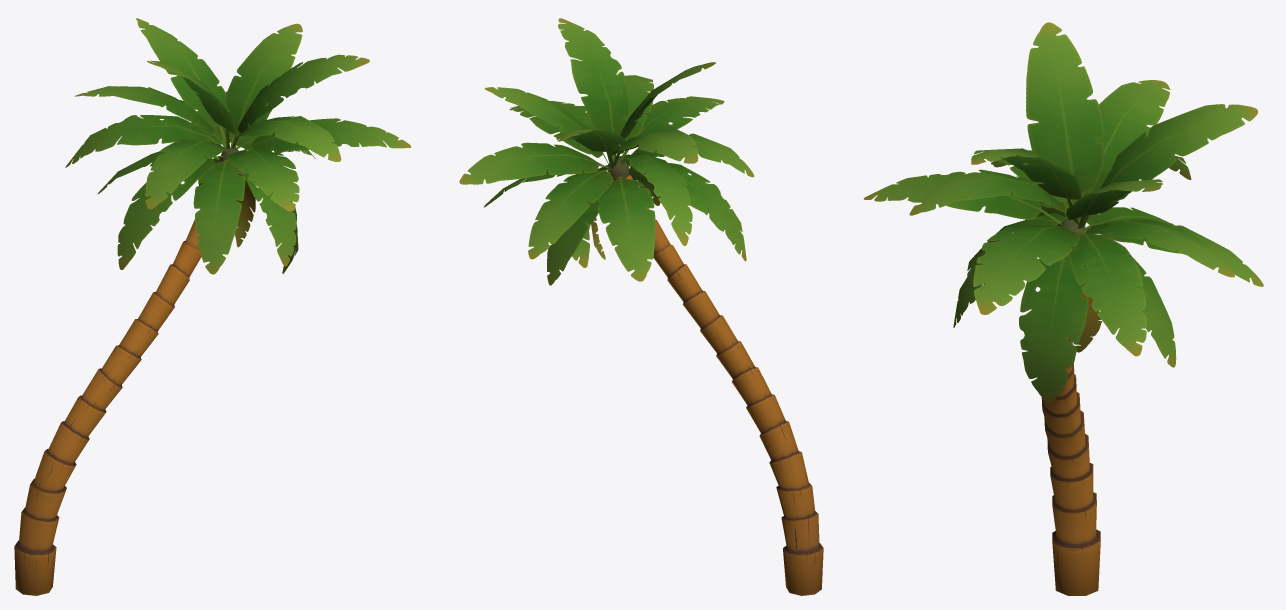
File: SM_Nature_Tree_04.fbx
3 renders of one model, left to right at view 1: azimuth 30°, elevation 25°; view 2: azimuth 150°, elevation 25°; view 3: azimuth 270°, elevation 25°, orthographic. The views are drawn at different scales.
Parts seen in each view (by area): view 1: Tree_04_LOD0; view 2: Tree_04_LOD0; view 3: Tree_04_LOD0.
Boxes of the visible parts, x1,y1,x2,y2 form: Tree_04_LOD0: [14, 18, 410, 595]; Tree_04_LOD0: [459, 18, 823, 595]; Tree_04_LOD0: [863, 22, 1263, 595].
Bounding box in the file's own units: 479 × 640 × 386.
